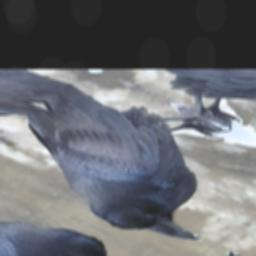Crow: (0, 70, 256, 255)
